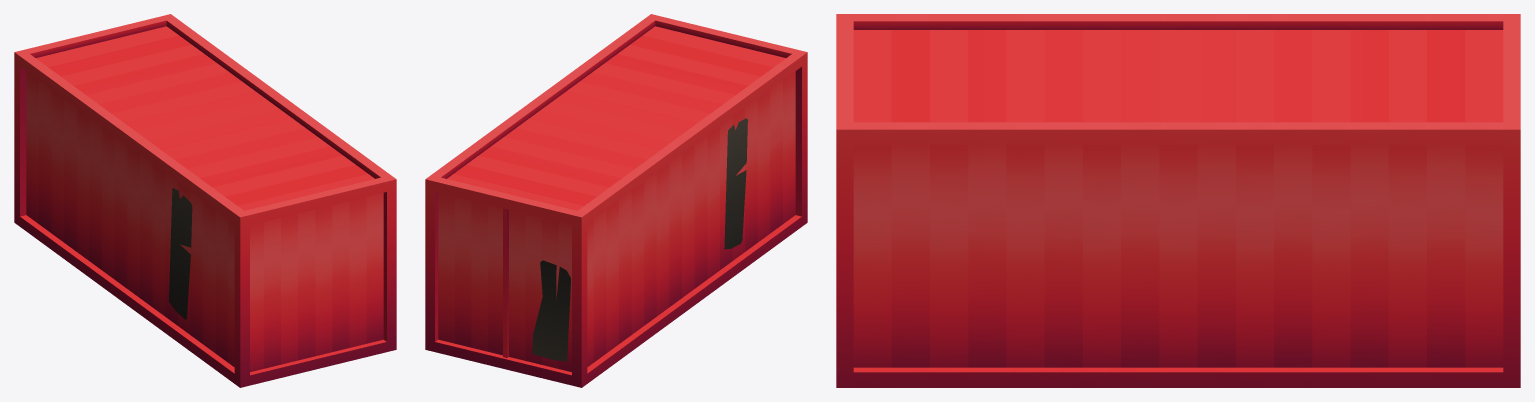
Rendered from Container_1H.fbx.
3 renders of one model, left to right at view 1: azimuth 30°, elevation 25°; view 2: azimuth 150°, elevation 25°; view 3: azimuth 270°, elevation 25°, orthographic. The views are drawn at different scales.
Visible parts, largest first — view 1: Container_1H; view 2: Container_1H; view 3: Container_1H.
Part boxes in pixels (x1,y1,x2,y2): Container_1H: (14,14,396,387); Container_1H: (425,14,807,387); Container_1H: (836,14,1520,387).
Bounding box in the file's own units: 2.4 × 2.5 × 6.
